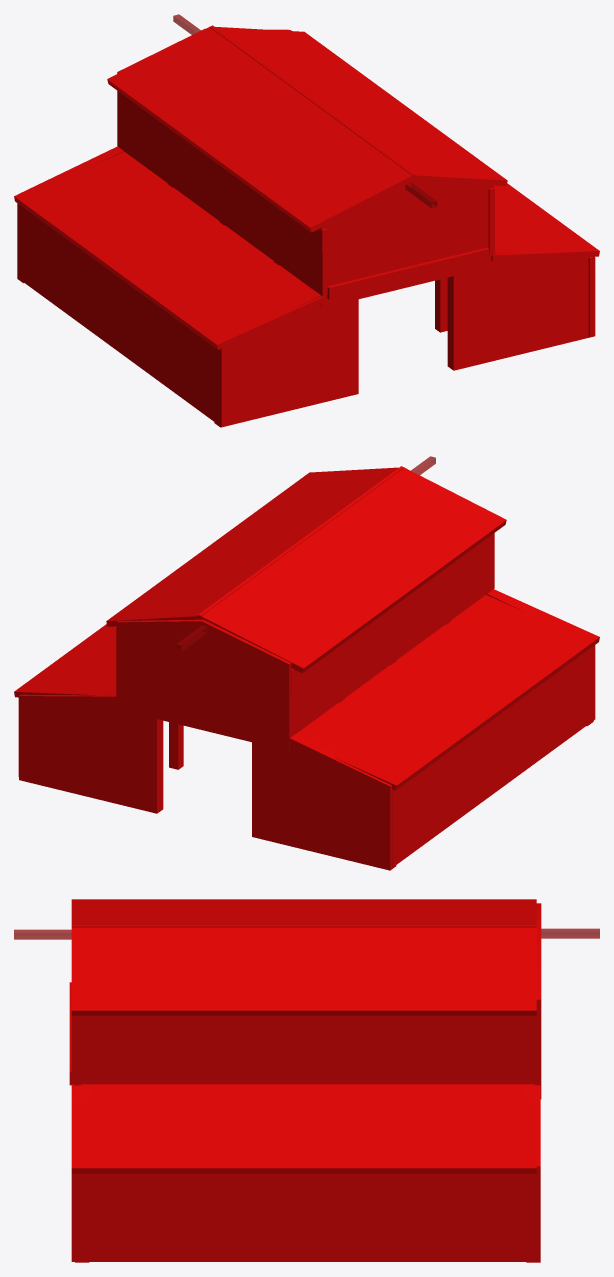
The model's file is SM_Bld_Barn_01_Collision.fbx.
3 views of the same model, one above another, from view 1: azimuth 30°, elevation 25°; view 2: azimuth 150°, elevation 25°; view 3: azimuth 270°, elevation 25° (orthographic). The views are drawn at different scales.
Parts seen in each view (by area): view 1: SM_Bld_Barn_01_Collision; view 2: SM_Bld_Barn_01_Collision; view 3: SM_Bld_Barn_01_Collision.
Boxes of the visible parts, <box> form: SM_Bld_Barn_01_Collision: <box>14,14,599,427</box>; SM_Bld_Barn_01_Collision: <box>14,456,599,870</box>; SM_Bld_Barn_01_Collision: <box>14,899,599,1262</box>.
Size of the model in its own units: 1186 by 614 by 1374.
